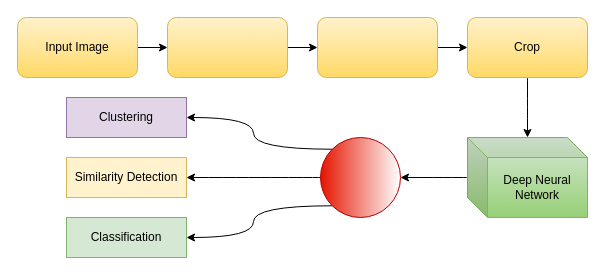
Image size: 605x275. Some labels were removed from this diagram. Here are the shapes that lost their labels. From the top down, the centre of each, then its label:
At pixel 227 47: "Detect".
At pixel 377 47: "Transform".
At pixel 360 177: "128D Represent-ation".
